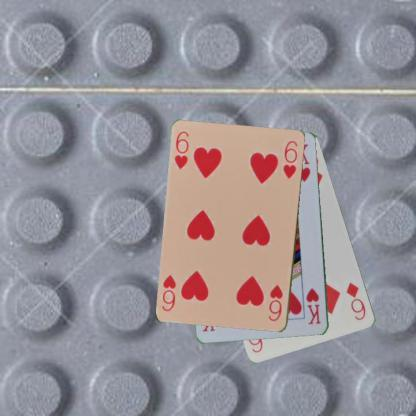6d: (344, 280, 367, 322)
6h: (172, 129, 190, 171), (266, 283, 284, 323)
Kh: (304, 285, 322, 326)
